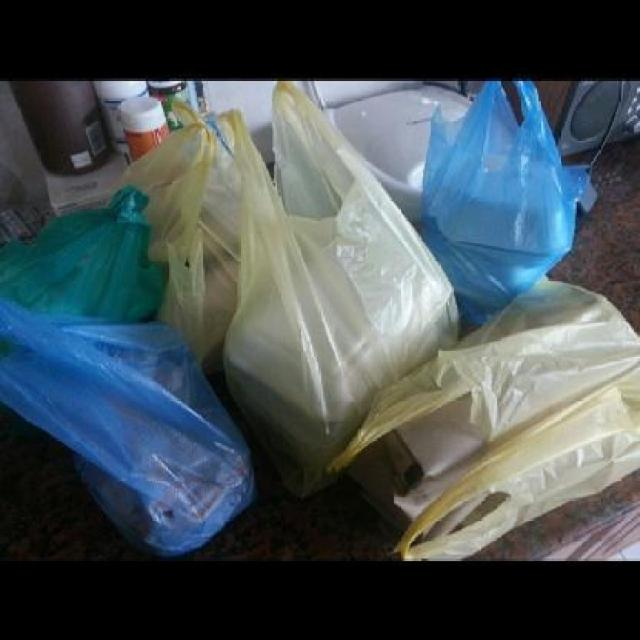plastic bag: (0, 78, 638, 559), (218, 75, 458, 503), (328, 269, 638, 557), (0, 292, 254, 551), (414, 76, 589, 324), (117, 104, 245, 364), (0, 177, 169, 318)
